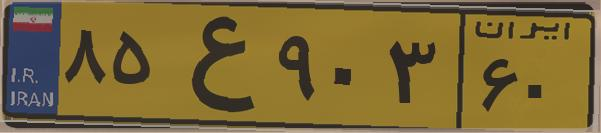0: (330, 28, 385, 110), (525, 38, 570, 115)
3: (385, 28, 445, 110)
5: (110, 28, 158, 98)
6: (475, 38, 525, 113)
8: (57, 26, 110, 100)
9: (270, 28, 330, 110)
ع: (158, 12, 270, 120)
